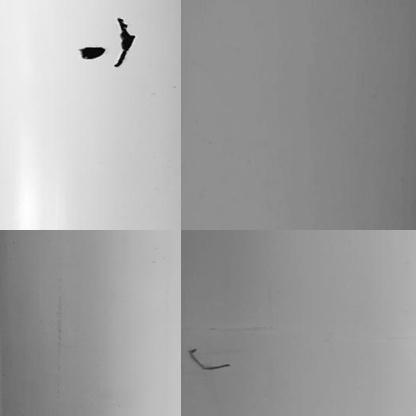fengxi: (186, 343, 231, 372)
kongdong: (113, 17, 135, 71), (76, 43, 102, 59)
